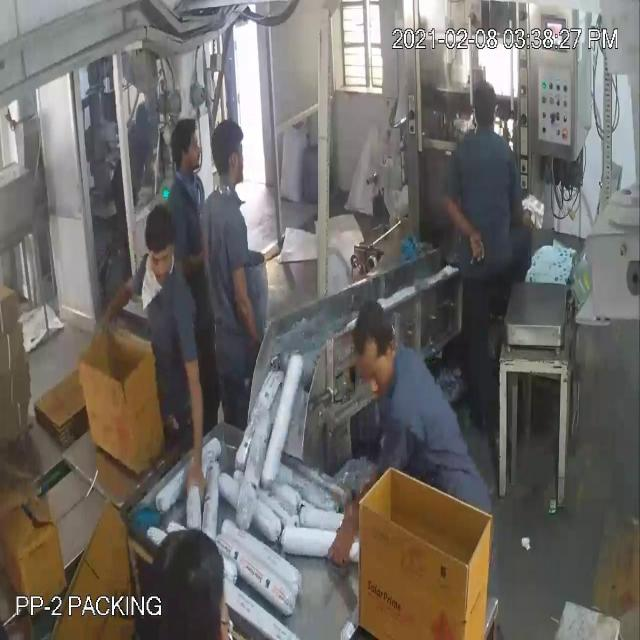No_Gloves: (30, 86, 246, 427)
